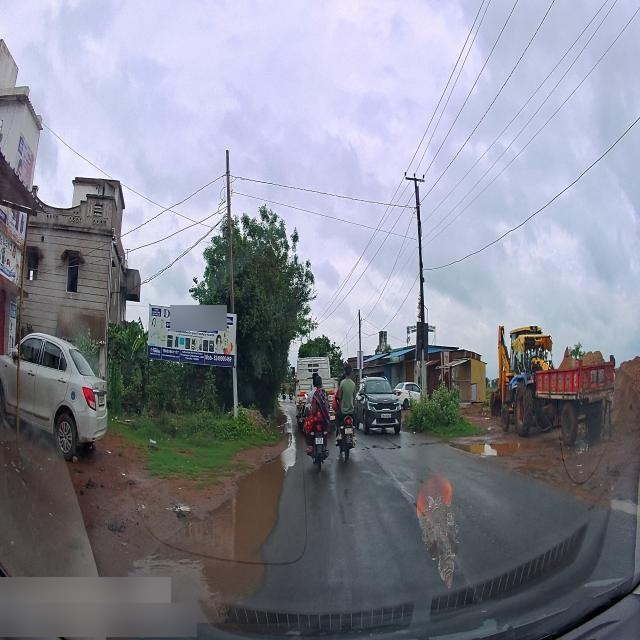pothole: (160, 444, 295, 594), (454, 442, 520, 459), (370, 442, 400, 454), (406, 440, 440, 450)
